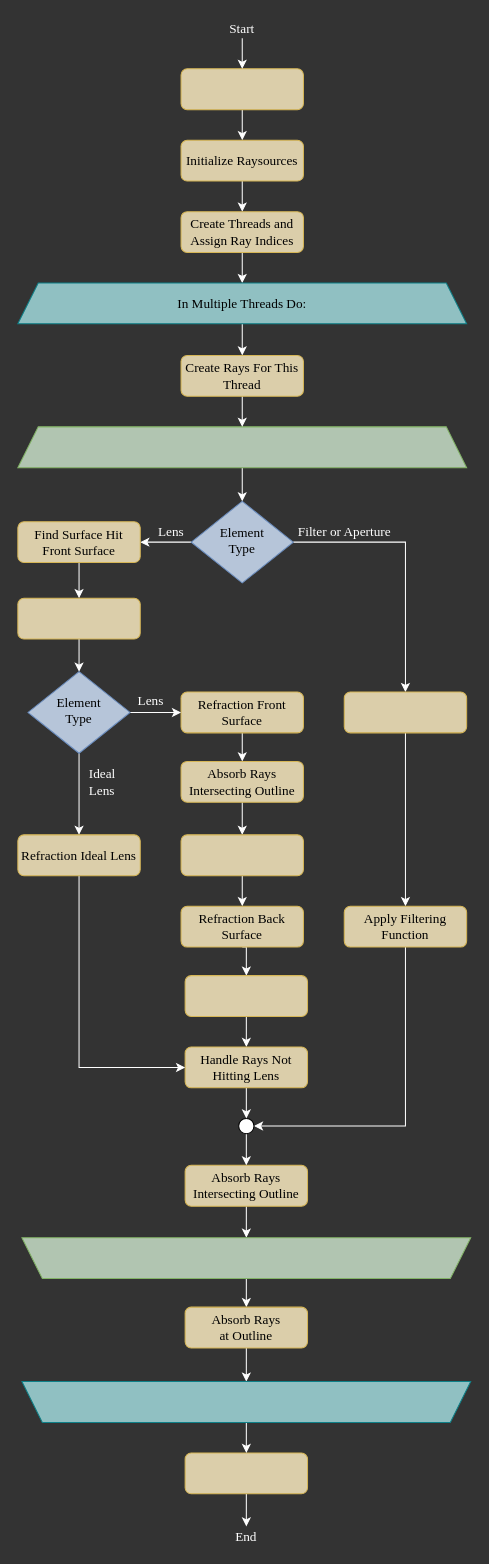
Some shapes in this 489 by 1564 pixel diagram are drawn without their labels. Here are the shapes that lost their labels. From the top down, the centre of each, then its label:
At (241,89): "Check Tracing Geometry".
At (242,447): "For All Elements Do:".
At (78,618): "Calculate Refraction Indices".
At (405,712): "Find Ray Intersection".
At (241,855): "Find Surface Hit Back Surface".
At (246,995): "Handle Rays not Hitting Both Surfaces".
At (246,1473): "Handle Errors From Each Thread".
